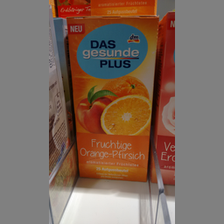tea: (66, 15, 161, 182)
